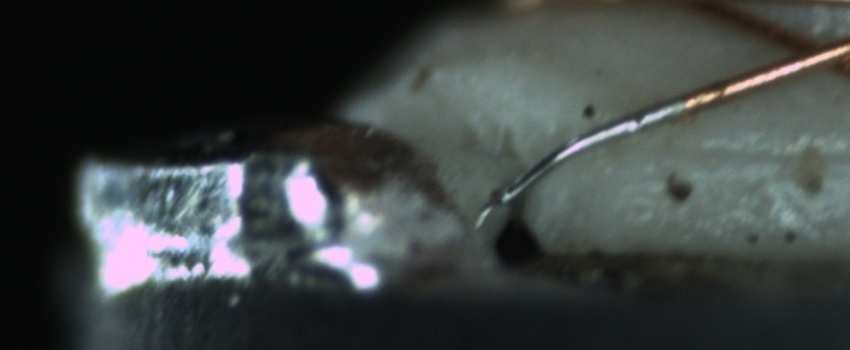CL: (762, 19, 849, 81)
DL: (669, 121, 849, 185)
TS: (488, 97, 685, 210)
